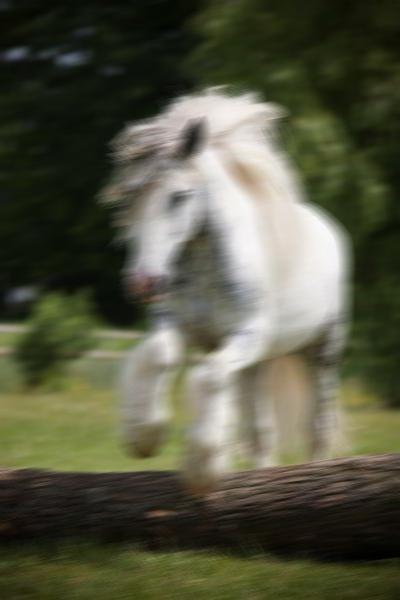horse: (97, 75, 361, 497)
